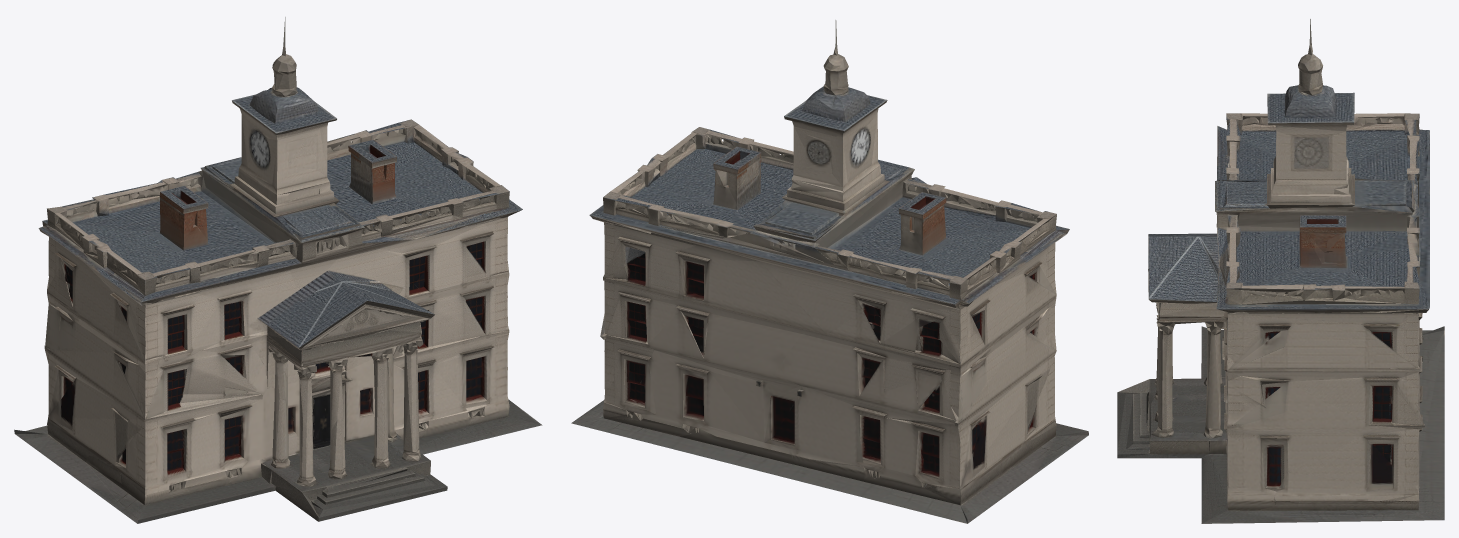
The model's file is hall.glb.
3 views of the same model, side by side, from view 1: azimuth 30°, elevation 25°; view 2: azimuth 150°, elevation 25°; view 3: azimuth 270°, elevation 25° (orthographic).
Bounding box in the file's own units: 1.9 × 1.89 × 1.36.
Materials: 1 (1 with a texture image).
